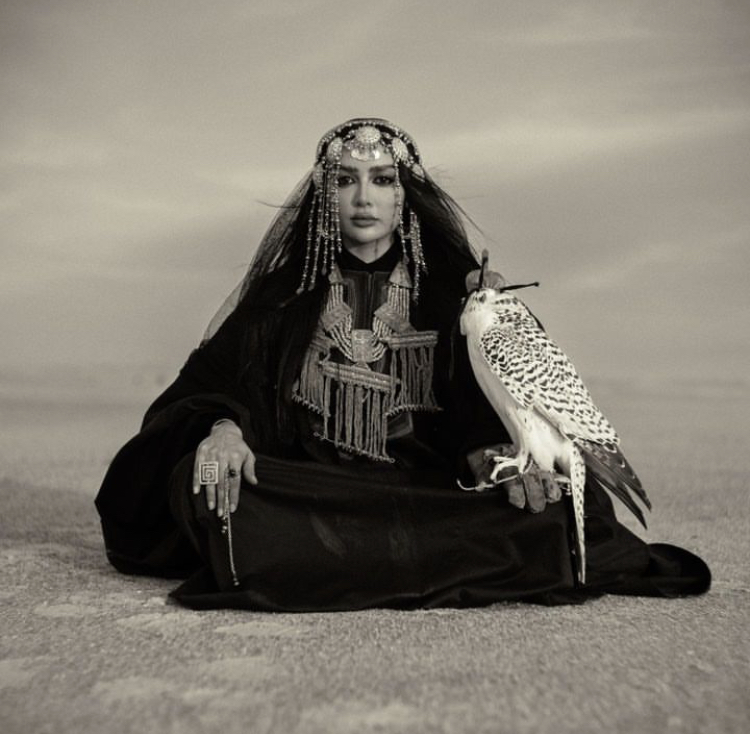Saudi_Founding_Day: (86, 112, 720, 618)
